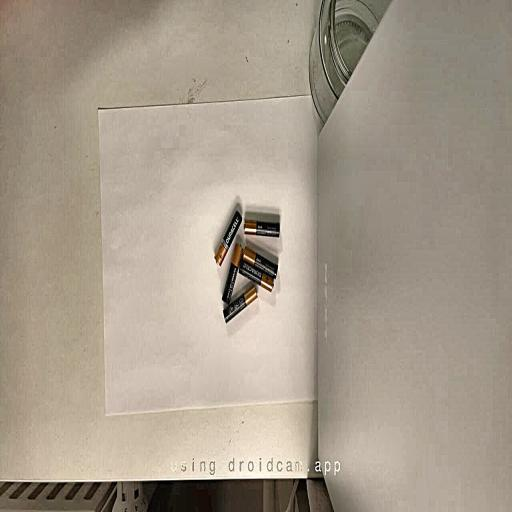DuracellAAA: (214, 210, 241, 266), (223, 285, 257, 323), (243, 245, 278, 278), (223, 244, 242, 303), (239, 261, 273, 292), (244, 220, 280, 237)
